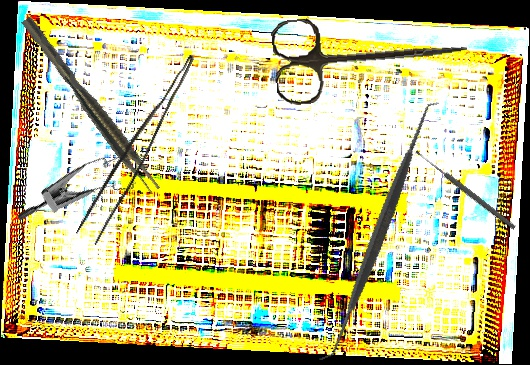Iris Scissors: (270, 2, 471, 107)
Spatula Surgical: (252, 100, 507, 363)
Speculum: (14, 130, 148, 261)
Surgical Spoon: (414, 148, 517, 231)
Tissue Forceps: (20, 11, 163, 198), (75, 44, 195, 248)
